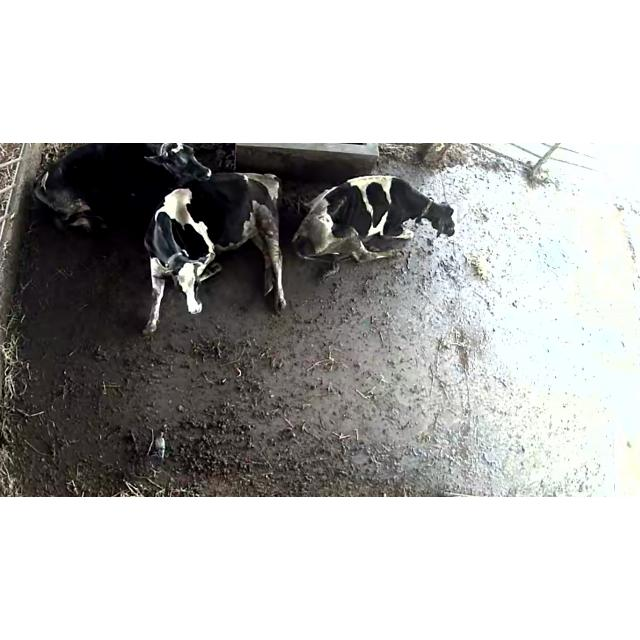lay: (140, 172, 296, 338), (296, 168, 464, 268), (34, 144, 210, 232)
